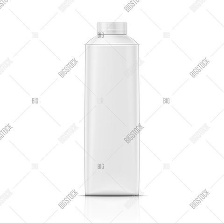carton: (80, 15, 145, 201)
